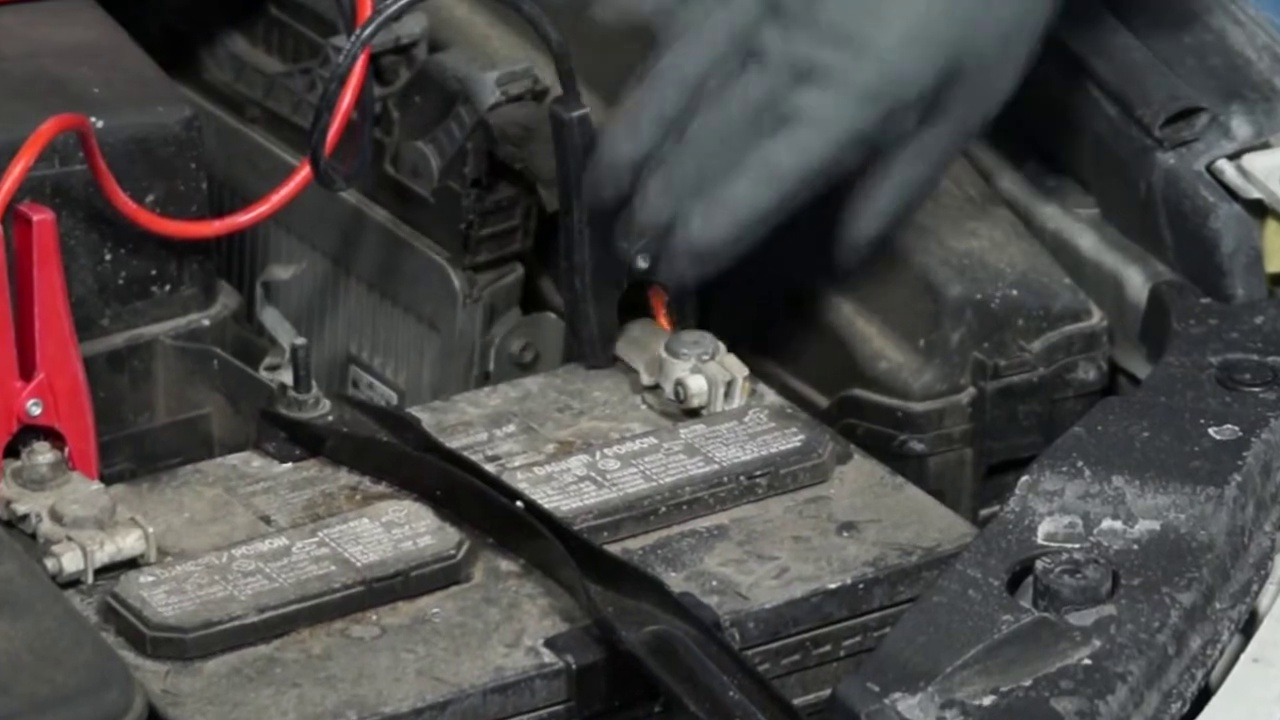battery: (6, 323, 957, 642)
neg_connected: (565, 283, 756, 426)
pos_connected: (8, 351, 165, 584)
